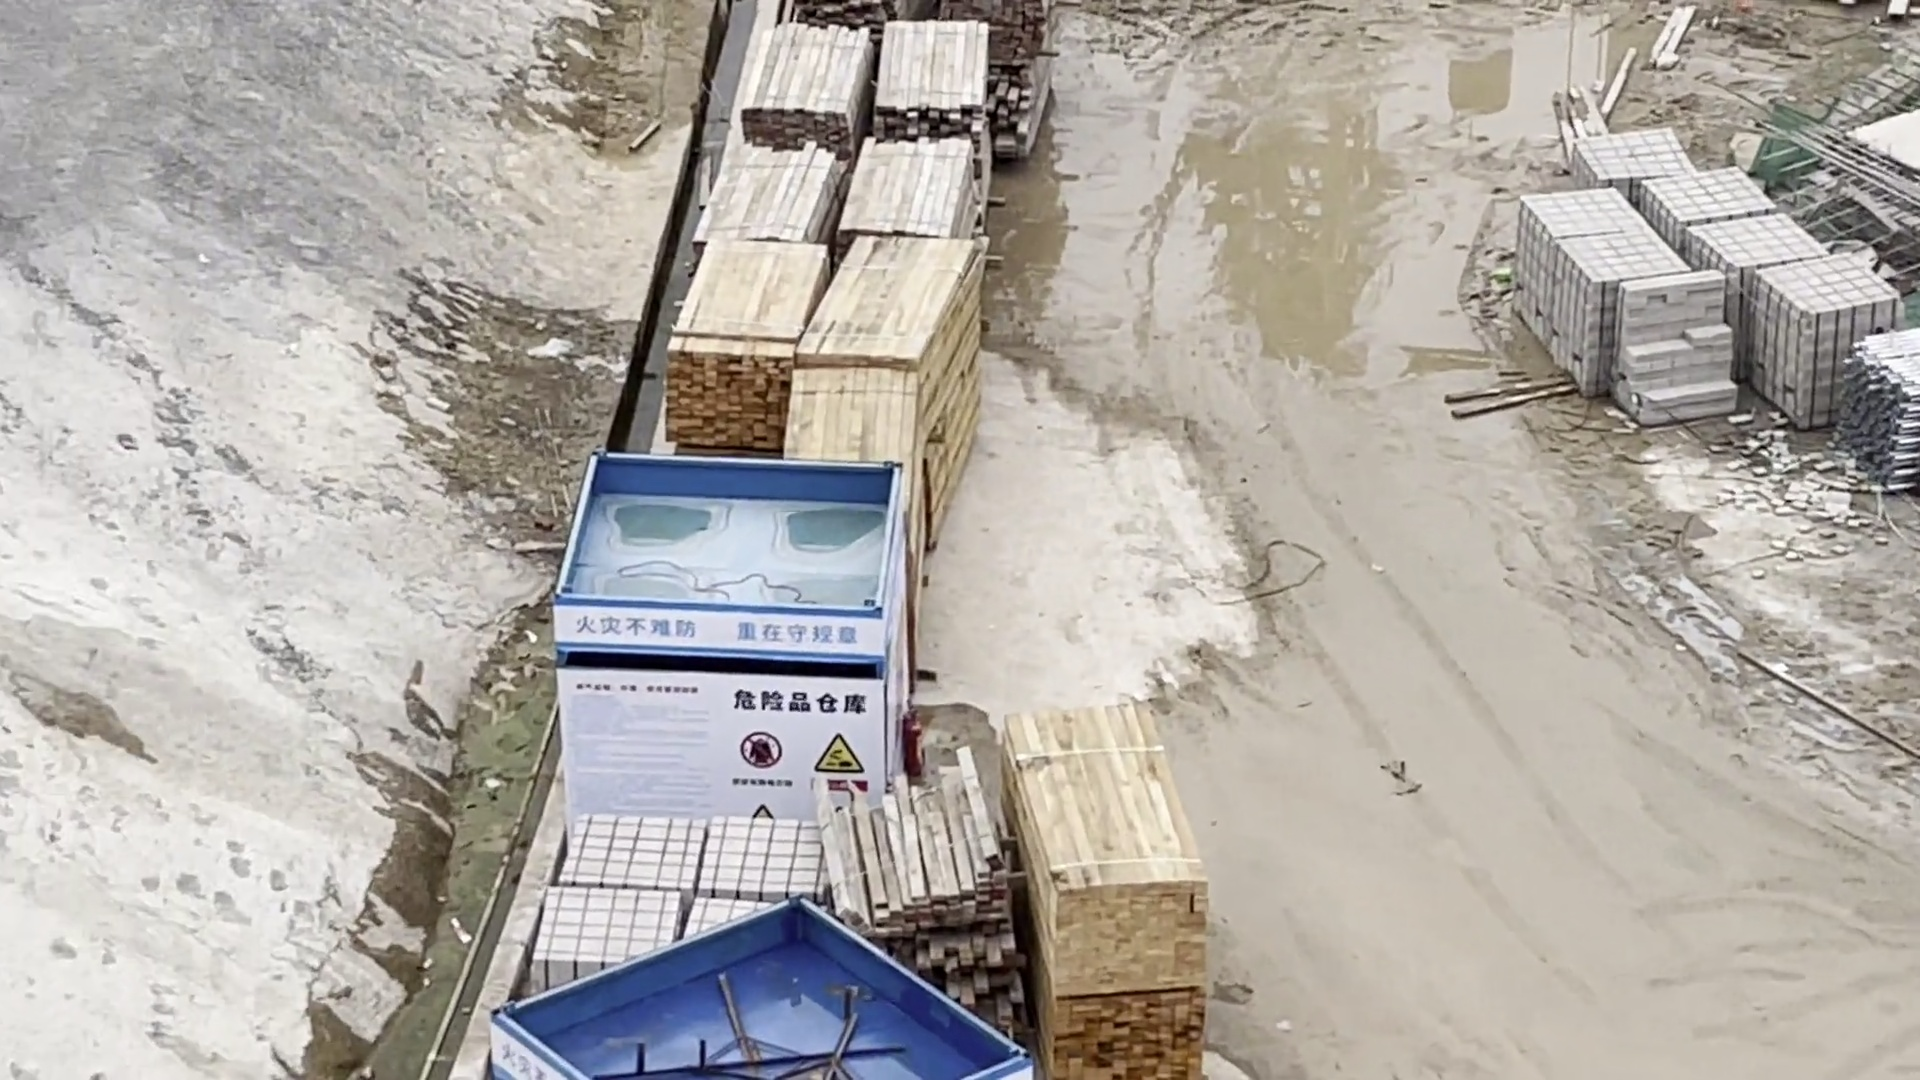brick: (1619, 261, 1756, 454)
scaffold: (1845, 342, 1920, 498)
slogan: (551, 415, 910, 728)
wood: (1014, 725, 1222, 1002), (803, 236, 978, 531), (816, 767, 1029, 1001), (670, 236, 807, 452), (874, 18, 1007, 161), (841, 135, 981, 253), (1042, 985, 1216, 1080), (785, 365, 927, 473), (746, 25, 873, 146), (713, 149, 829, 251)
